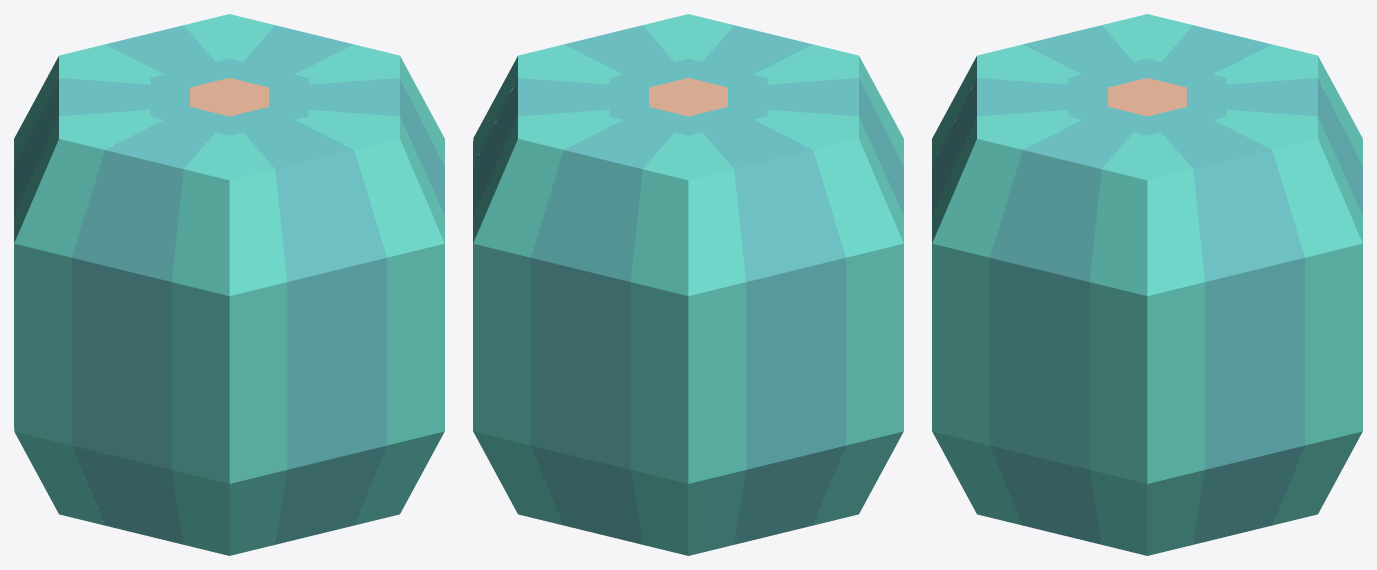
The model's file is crop_melon.glb.
The picture shows the model from 3 angles, left to right: view 1: azimuth 30°, elevation 25°; view 2: azimuth 150°, elevation 25°; view 3: azimuth 270°, elevation 25°; orthographic projection.
Visible parts, largest first — view 1: crop_melon; view 2: crop_melon; view 3: crop_melon.
Boxes of the visible parts, x1,y1,x2,y2 form: crop_melon: (14, 14, 444, 555); crop_melon: (473, 14, 903, 555); crop_melon: (932, 14, 1362, 555).
Size of the model in its own units: 0.4176 by 0.348 by 0.3617.
